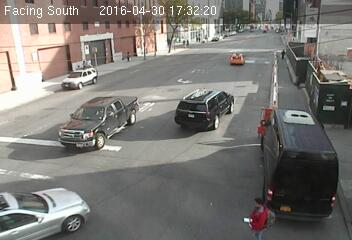neg: (81, 93, 108, 129), (55, 203, 78, 233), (185, 85, 206, 114), (207, 71, 225, 95), (16, 192, 34, 215), (290, 108, 305, 127), (91, 129, 105, 149), (71, 101, 84, 120), (212, 103, 225, 121)
pos: (242, 195, 276, 239), (279, 47, 289, 60), (125, 51, 134, 63)
